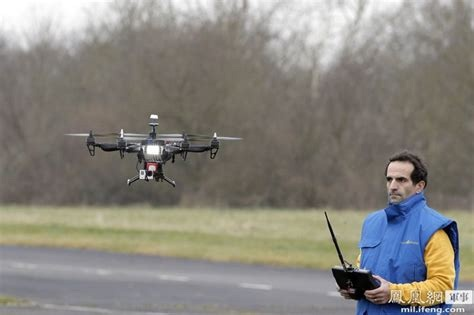DJI: (83, 113, 220, 189)
